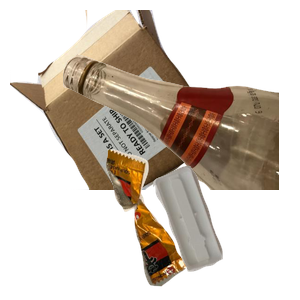cardboard: (10, 10, 227, 190)
glass: (60, 10, 300, 190)
plastic: (150, 163, 300, 300)
trash: (103, 147, 300, 300)
